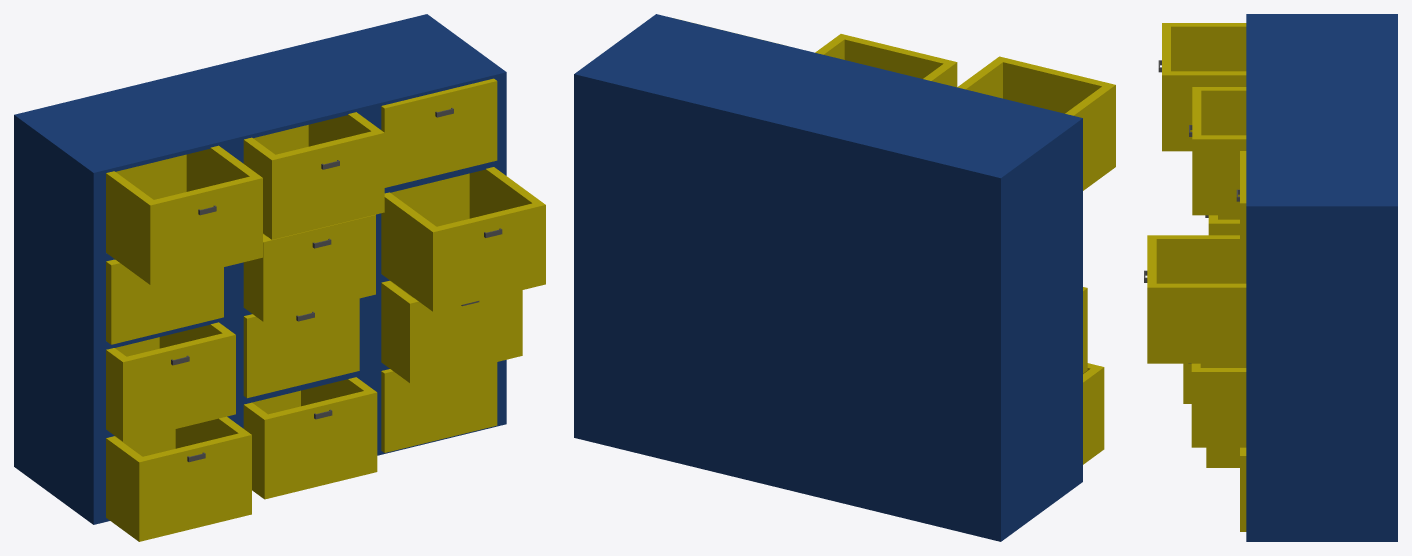
Rendered from locker 2.fbx.
The picture shows the model from 3 angles, left to right: view 1: azimuth 30°, elevation 25°; view 2: azimuth 150°, elevation 25°; view 3: azimuth 270°, elevation 25°; orthographic projection. The views are drawn at different scales.
Parts seen in each view (by area): view 1: Cube.104, Cube.114, Cube.115, Cube.106, Cube.116, Cube.107, Cube.109, Cube.111, Cube.113, Cube.117, Cube.110, Cube.108 (+1 smaller); view 2: Cube.104, Cube.115, Cube.116, Cube.106; view 3: Cube.104, Cube.114, Cube.115, Cube.116, Cube.111, Cube.117, Cube.107, Cube.113, Cube.108, Cube.106.
Boxes of the visible parts, left/top/right/bottom form: Cube.104: left=14, top=14, right=506, bottom=524; Cube.114: left=381, top=167, right=545, bottom=311; Cube.115: left=106, top=145, right=262, bottom=284; Cube.106: left=106, top=416, right=251, bottom=541; Cube.116: left=243, top=112, right=384, bottom=239; Cube.107: left=243, top=377, right=377, bottom=499; Cube.109: left=106, top=322, right=235, bottom=441; Cube.111: left=381, top=280, right=522, bottom=383; Cube.113: left=243, top=214, right=375, bottom=321; Cube.117: left=381, top=78, right=497, bottom=187; Cube.110: left=243, top=298, right=359, bottom=398; Cube.108: left=381, top=362, right=497, bottom=452; Cube.104: left=574, top=14, right=1082, bottom=541; Cube.115: left=957, top=56, right=1115, bottom=190; Cube.116: left=815, top=34, right=957, bottom=87; Cube.106: left=1083, top=363, right=1104, bottom=464; Cube.104: left=1246, top=14, right=1397, bottom=541; Cube.114: left=1147, top=235, right=1246, bottom=363; Cube.115: left=1162, top=23, right=1246, bottom=151; Cube.116: left=1192, top=87, right=1246, bottom=215; Cube.111: left=1191, top=363, right=1246, bottom=447; Cube.117: left=1240, top=151, right=1246, bottom=279; Cube.107: left=1206, top=447, right=1239, bottom=467; Cube.113: left=1208, top=215, right=1239, bottom=235; Cube.108: left=1240, top=447, right=1246, bottom=531; Cube.106: left=1183, top=363, right=1191, bottom=403.
Bounding box in the file's own units: 78.92 × 64.27 × 44.06.
